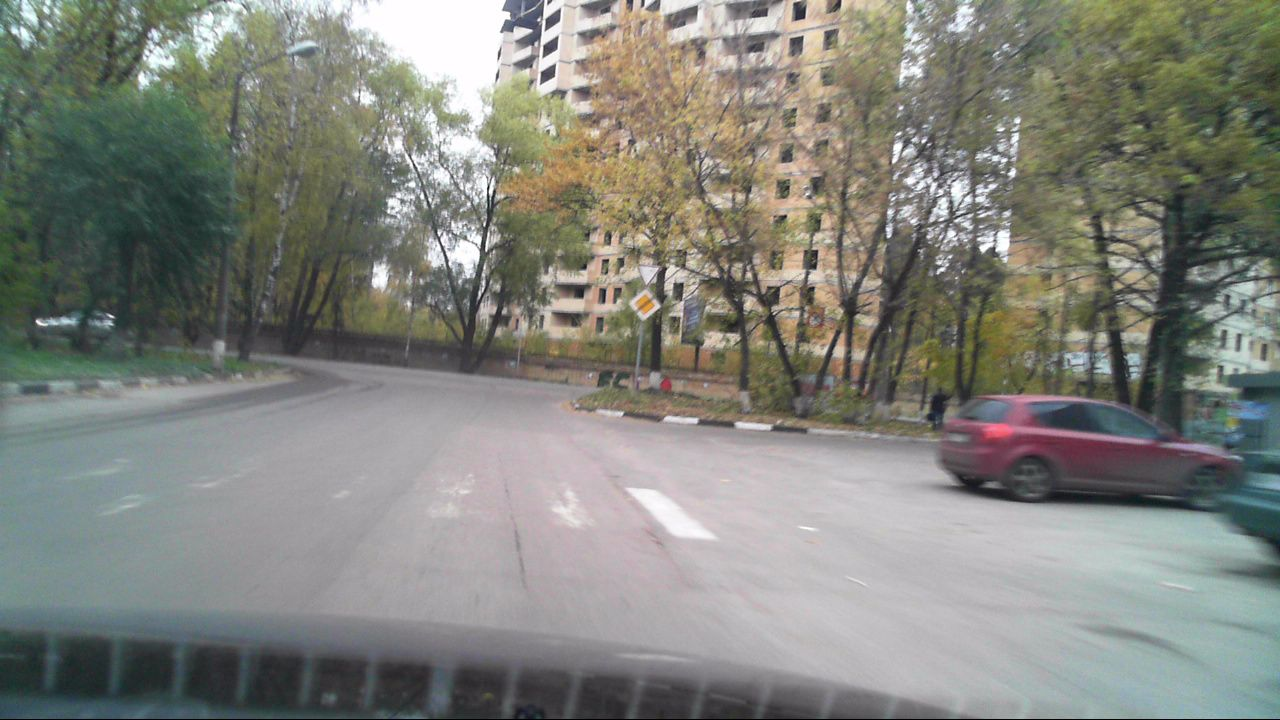main road: (629, 290, 662, 322)
